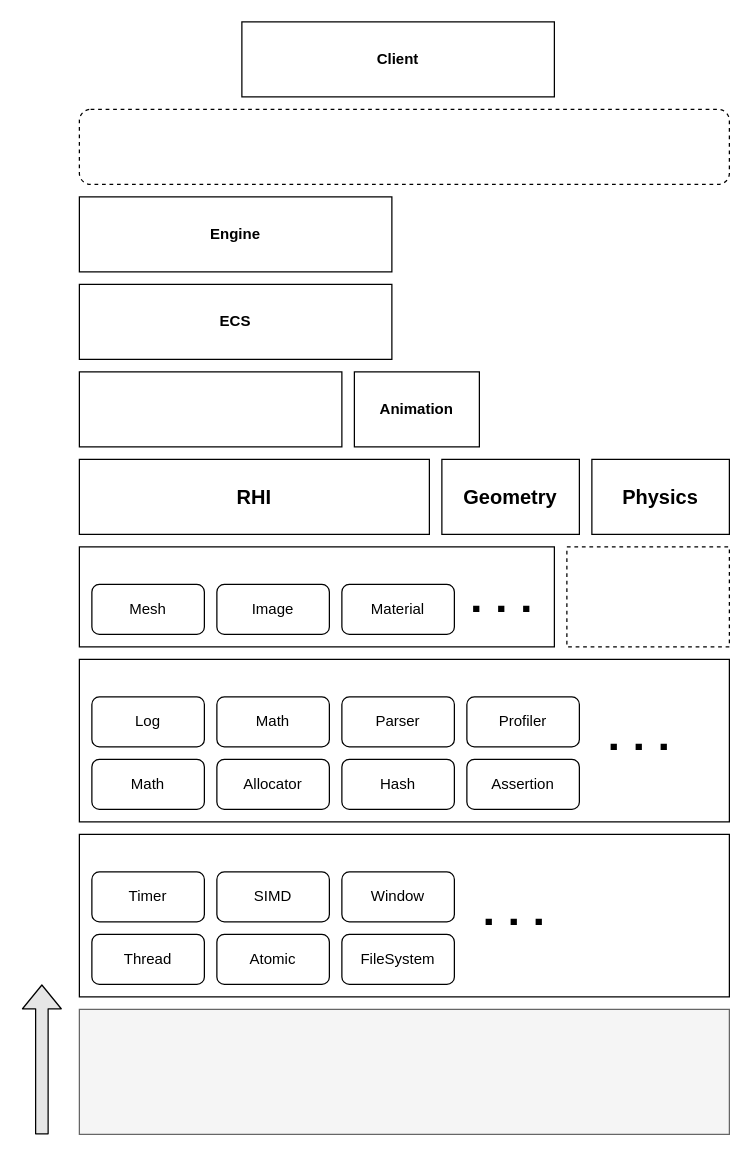
Some shapes in this 751 by 1156 pixel diagram are drawn without their labels. Here are the shapes that lost their labels. From the top down, the box of each, then its label:
(78, 108, 729, 184): Editor
(78, 371, 342, 447): Renderer
(78, 546, 554, 647): Resource
(566, 546, 729, 647): ShaderSystem
(78, 658, 729, 822): Core
(78, 833, 729, 997): Platform
(78, 1008, 729, 1134): HW/Driver/OS
